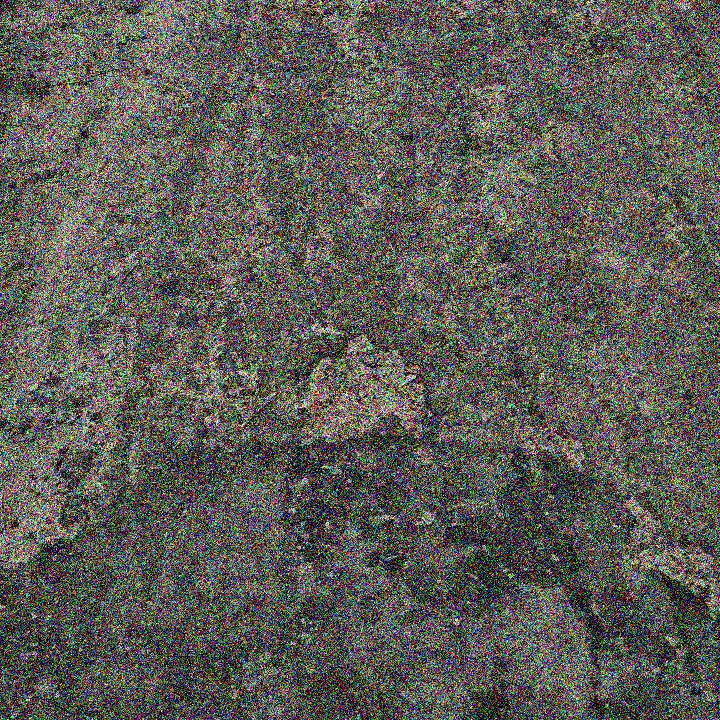pothole: (289, 326, 434, 442), (637, 540, 719, 589)
